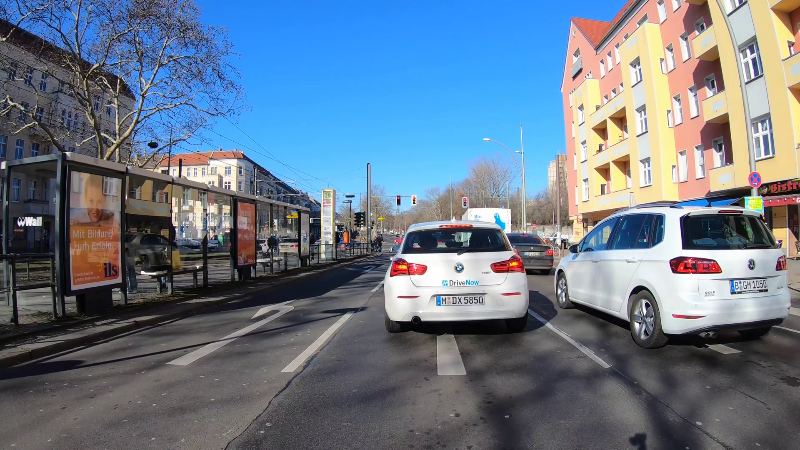Plate: (729, 276, 771, 294), (434, 293, 487, 307)
